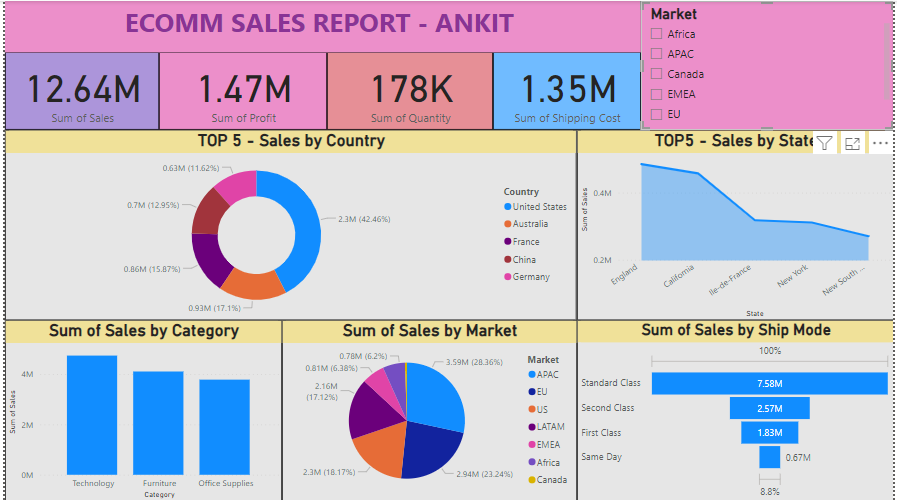

This screenshot's page, from the dashboard's own definition file:
{"tool":"powerbi","page":{"name":"Page 1","canvas":[1280,720],"ordinal":0},"visuals":[{"type":"columnChart","fields":{"Category":["Orders.Category"],"Y":["Orders.Sales"]},"box":[0,459.4,398.6,260.9],"z":0},{"type":"pieChart","fields":{"Category":["Orders.Market"],"Y":["Orders.Sales"]},"box":[398.6,459.4,424.6,260.9],"z":1000},{"type":"funnel","fields":{"Category":["Orders.Ship Mode"],"Y":["Orders.Sales"]},"box":[823.2,459.4,456.5,260.9],"z":2000},{"type":"donutChart","title":"TOP 5 - Sales by Country","fields":{"Category":["Orders.Country"],"Y":["Orders.Sales"]},"box":[0,185.5,823.2,273.9],"z":3000},{"type":"areaChart","title":"TOP5 - Sales by State","fields":{"Category":["Orders.State"],"Y":["Orders.Sales"]},"box":[823.2,185.5,456.5,273.9],"z":4000},{"type":"card","fields":{"Values":["Orders.Sales"]},"box":[0,73.9,221.7,111.6],"z":5000},{"type":"card","fields":{"Values":["Orders.Profit"]},"box":[221.7,73.9,242,111.6],"z":6000},{"type":"card","fields":{"Values":["Orders.Quantity"]},"box":[463.8,73.9,239.1,111.6],"z":7000},{"type":"card","fields":{"Values":["Orders.Shipping Cost"]},"box":[702.9,73.9,213,111.6],"z":8000},{"type":"slicer","fields":{"Values":["Orders.Market"]},"box":[915.9,0,363.8,185.5],"z":9000},{"type":"textbox","box":[0,0,915.9,73.9],"z":10000}]}

Visuals, with their boxes in screenshot pixels (x1, y1, x2, y2), scaled from the page's 1280x720 canvas onto the 897x500 screenshot:
columnChart - Orders.Category x Orders.Sales: detection(0, 319, 279, 499)
pieChart - Orders.Market x Orders.Sales: detection(279, 319, 577, 499)
funnel - Orders.Ship Mode x Orders.Sales: detection(577, 319, 896, 499)
"TOP 5 - Sales by Country" donutChart: detection(0, 129, 577, 319)
"TOP5 - Sales by State" areaChart: detection(577, 129, 896, 319)
card - Orders.Sales: detection(0, 51, 155, 129)
card - Orders.Profit: detection(155, 51, 325, 129)
card - Orders.Quantity: detection(325, 51, 493, 129)
card - Orders.Shipping Cost: detection(493, 51, 642, 129)
slicer - Orders.Market: detection(642, 0, 896, 129)
textbox: detection(0, 0, 642, 51)
